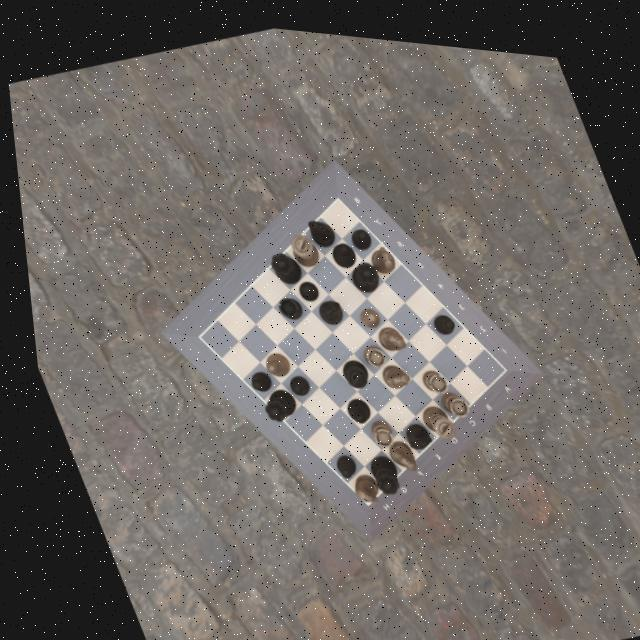chess-table-corners: (318, 176, 350, 206), (480, 348, 511, 376), (180, 320, 208, 350), (344, 484, 371, 512)
